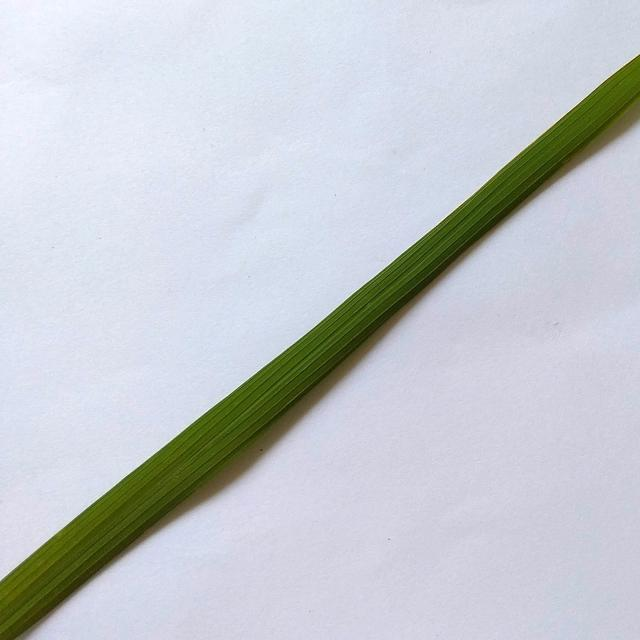Rice_Healthy: (0, 55, 640, 640)
